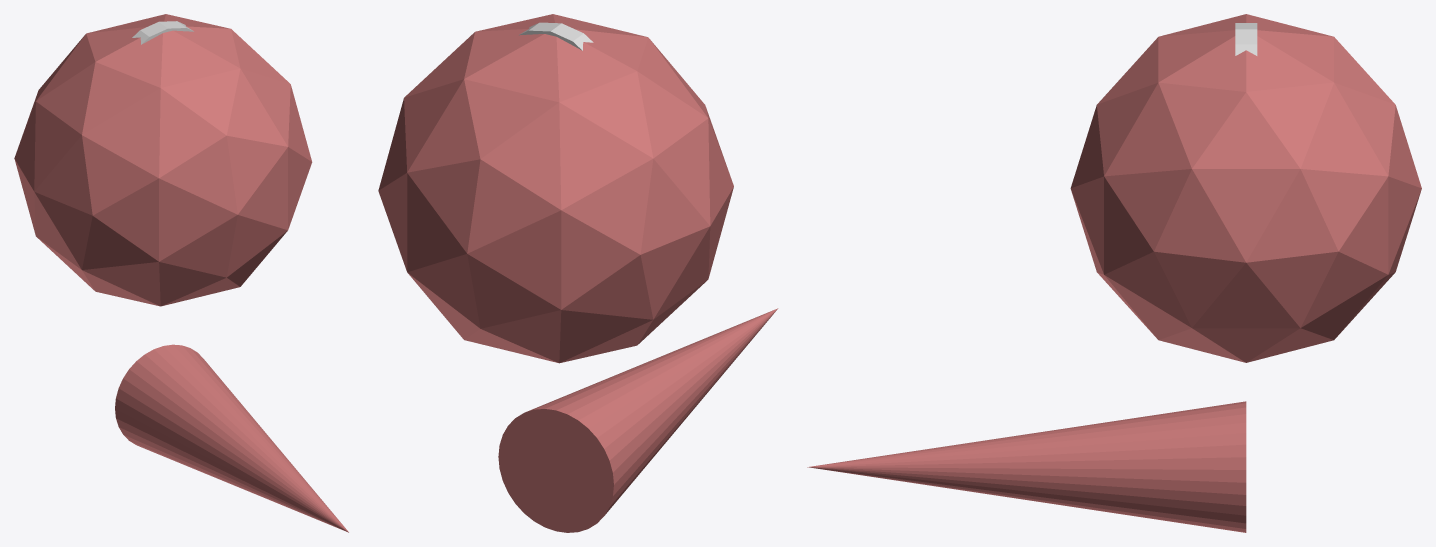
Rendered from mrk_pin_location.glb.
3 renders of one model, left to right at view 1: azimuth 30°, elevation 25°; view 2: azimuth 150°, elevation 25°; view 3: azimuth 270°, elevation 25°, orthographic. The views are drawn at different scales.
Parts seen in each view (by area): view 1: world; view 2: world; view 3: world.
Part boxes in pixels (bbox=[...]): world: bbox=[14, 14, 348, 532]; world: bbox=[378, 14, 778, 532]; world: bbox=[807, 14, 1421, 532].
Size of the model in its own units: 0.8 by 1.25 by 1.4.
